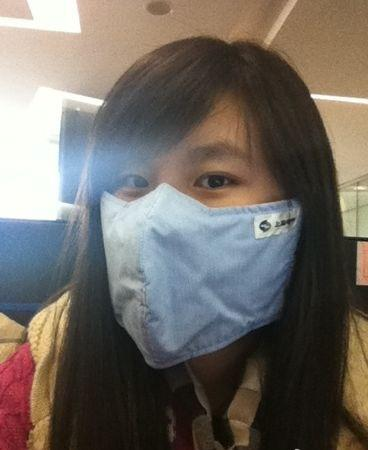OK: (100, 117, 286, 364)
